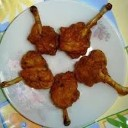chicken_lollipop: (74, 52, 128, 99), (62, 1, 112, 50), (3, 50, 54, 94), (26, 6, 59, 54), (53, 72, 79, 127)
